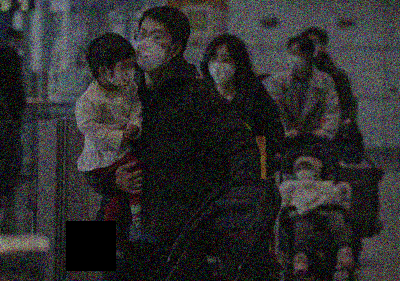with_mask: (135, 24, 171, 71), (207, 50, 233, 83), (111, 57, 135, 89), (283, 44, 304, 73), (294, 162, 316, 182)
